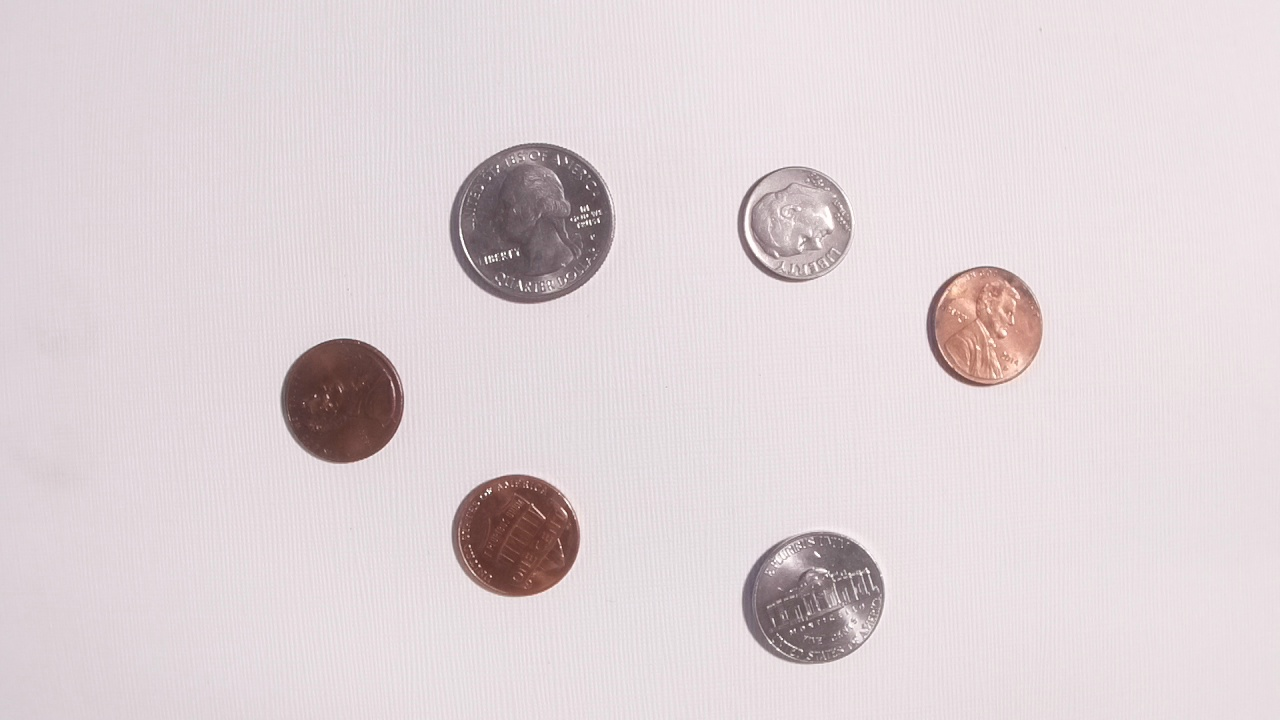dime: (728, 162, 860, 290)
nickel: (735, 525, 895, 667)
penny: (449, 468, 587, 602), (276, 334, 410, 468), (920, 260, 1052, 390)
quarter: (448, 141, 620, 303)
